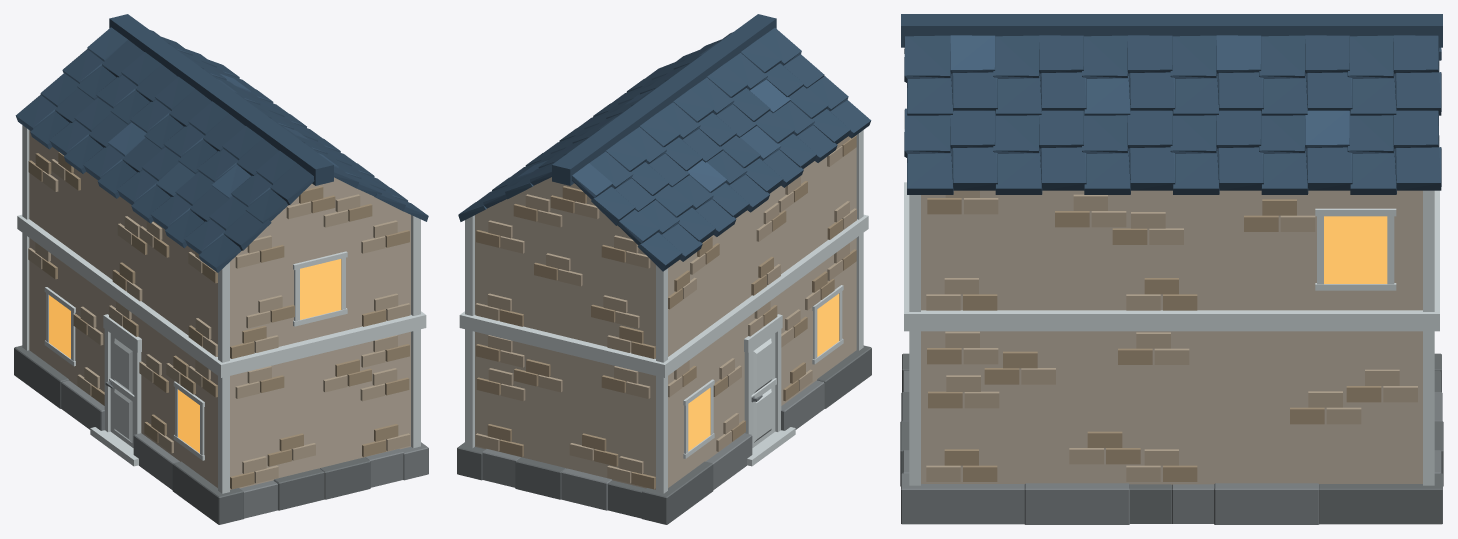
Rendered from SM_House_7.fbx.
3 renders of one model, left to right at view 1: azimuth 30°, elevation 25°; view 2: azimuth 150°, elevation 25°; view 3: azimuth 270°, elevation 25°, orthographic. The views are drawn at different scales.
Parts seen in each view (by area): view 1: SM_House_7_LOD0; view 2: SM_House_7_LOD0; view 3: SM_House_7_LOD0.
Boxes of the visible parts, x1,y1,x2,y2 form: SM_House_7_LOD0: (14,14,428,524); SM_House_7_LOD0: (457,14,871,524); SM_House_7_LOD0: (900,14,1443,524).
Bounding box in the file's own units: 491 × 814 × 722.
Materials: 1 (1 with a texture image).
